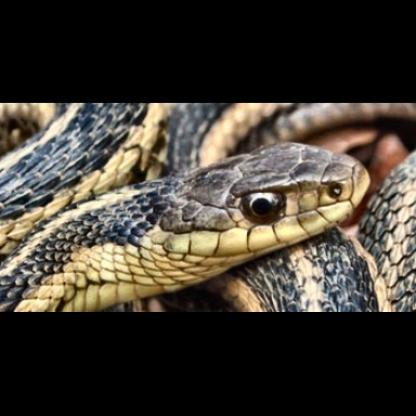Snake: (3, 105, 411, 307)
